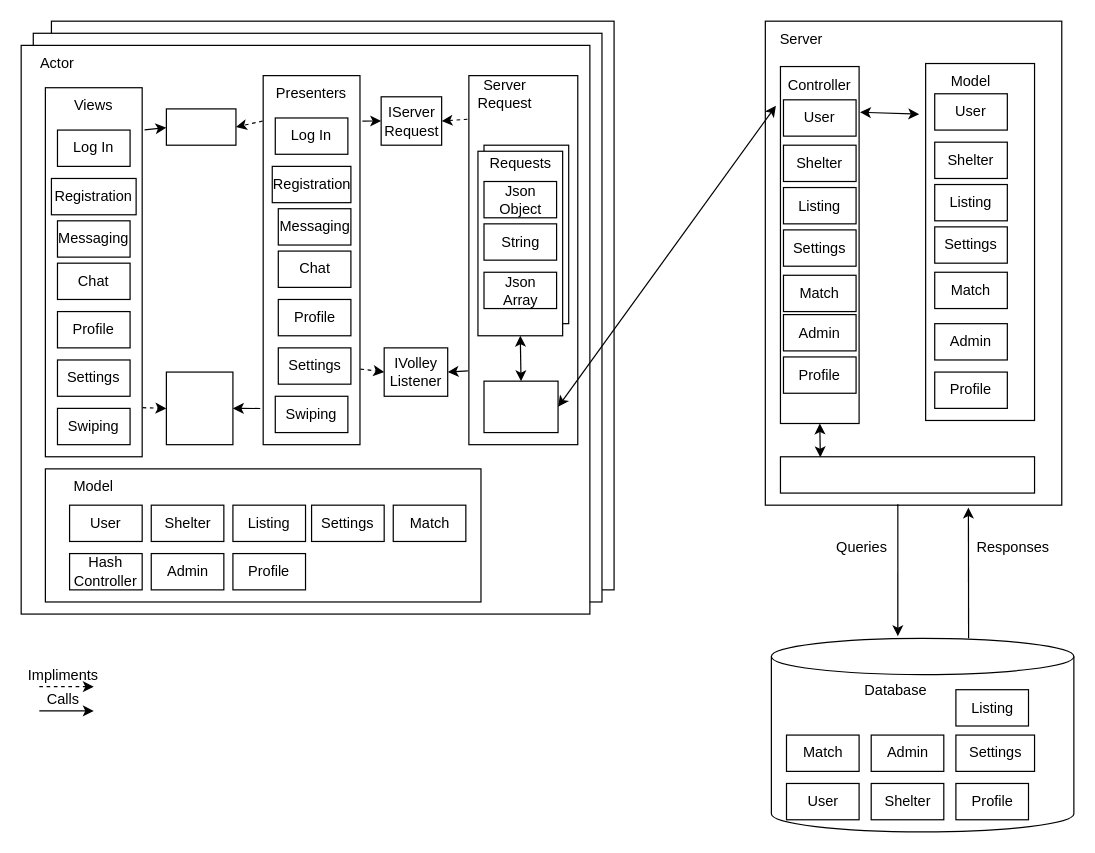
The diagram is 1095 pixels wide and 853 high, and some of its shapes have lost their labels. Each missing label, with the centre of its shape:
IPresenter: point 200,126
IView: point 199,408
Repositories: point 907,474
Request Queue: point 520,406
